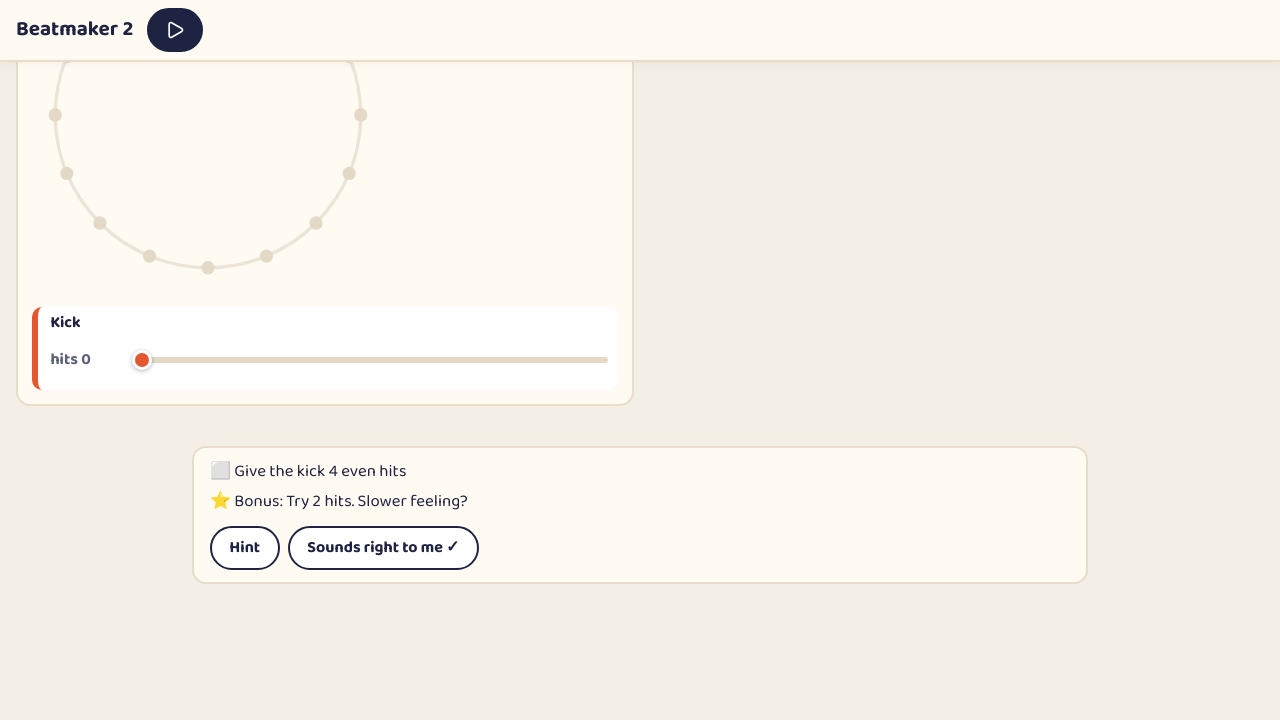
Test case: Lesson › earned stars stay after a goal becomes unmet again, and Hint stays off
(page scrolled)
Step 1. Set the slider named "Kick hits" to "4" → (255, 360), box [132,338,608,382]
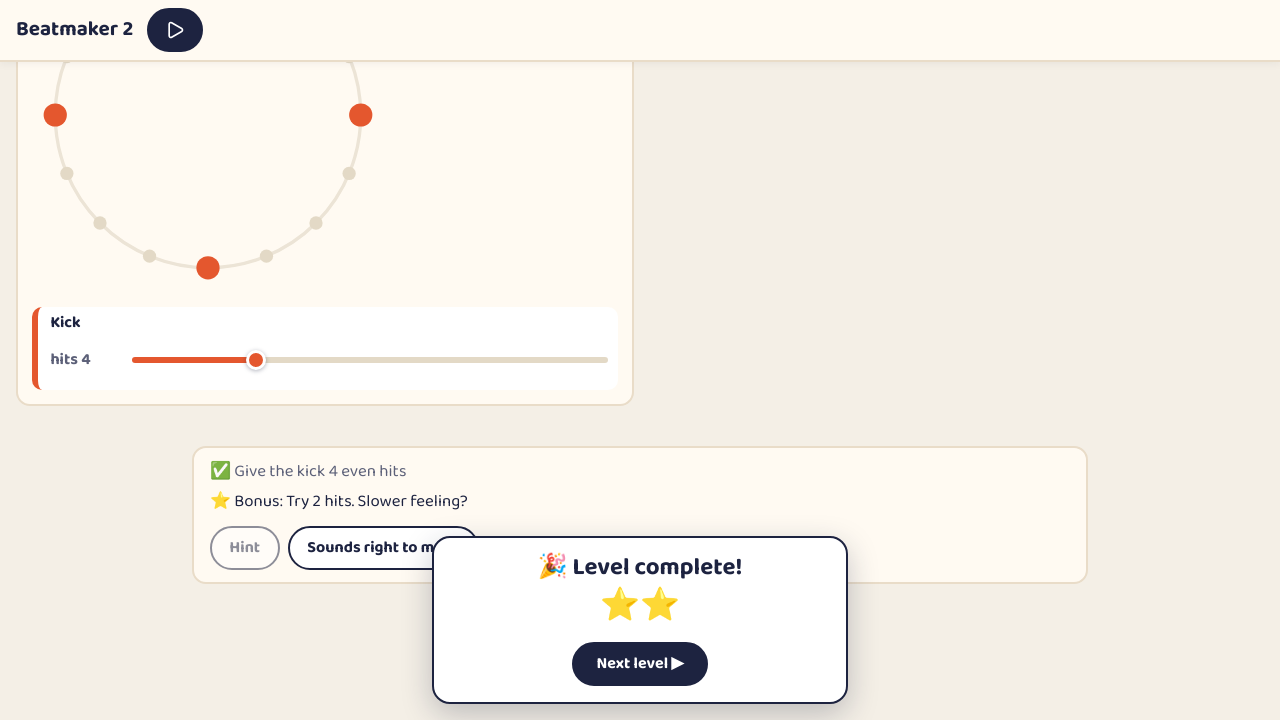
Step 2. Set the slider named "Kick hits" to "3" → (226, 360), box [132,338,608,382]
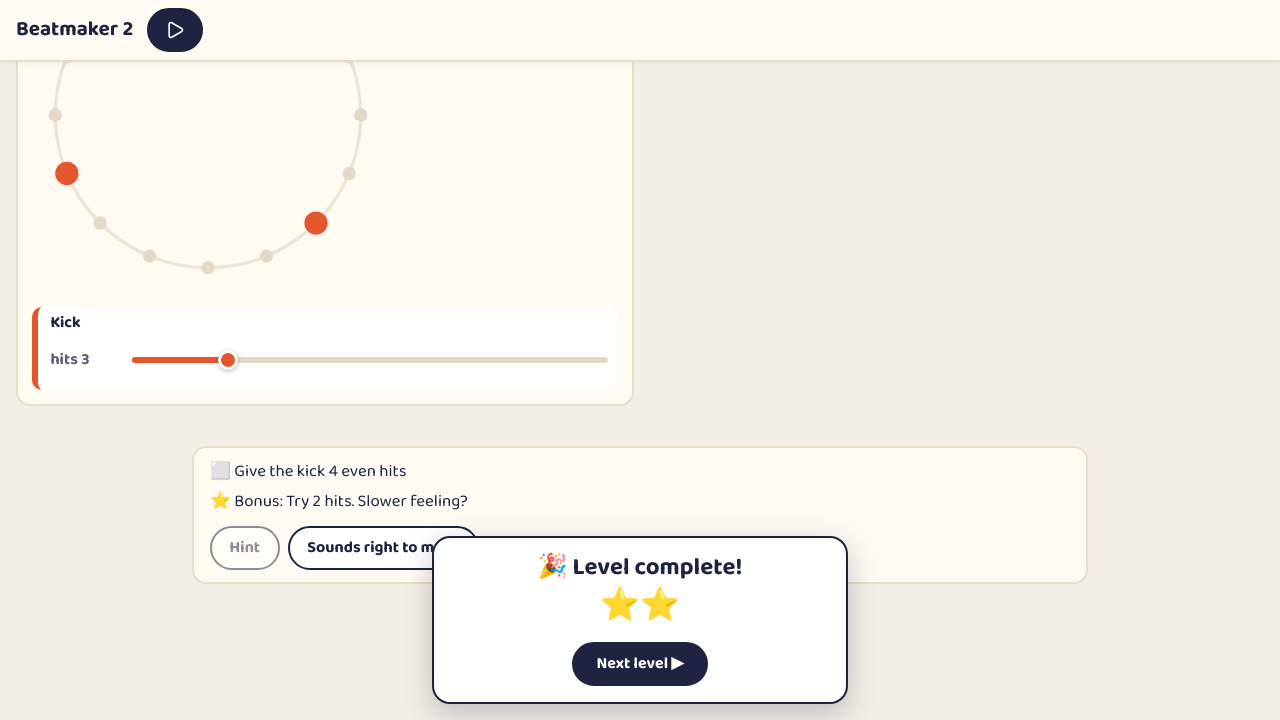
Now the button "Hint" is disabled, box [210,526,280,570]
Now the list item "Give the kick 4 even hits" shows "⬜", box [210,458,231,485]
